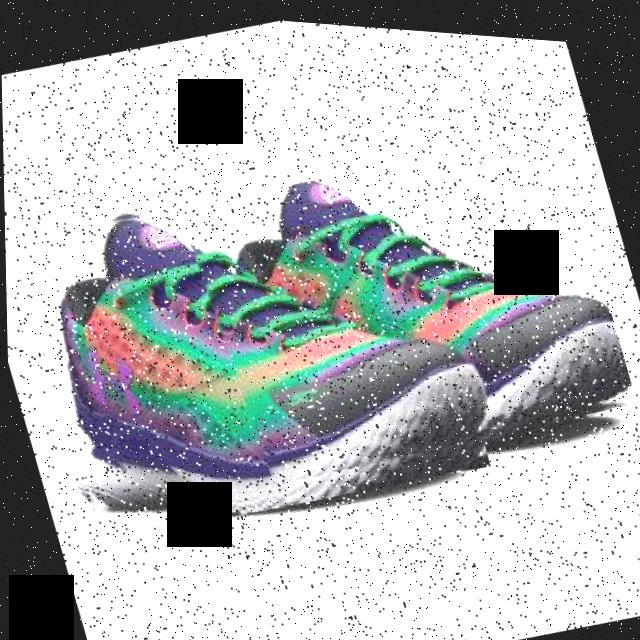shoe: (2, 128, 490, 566), (175, 101, 640, 507)
